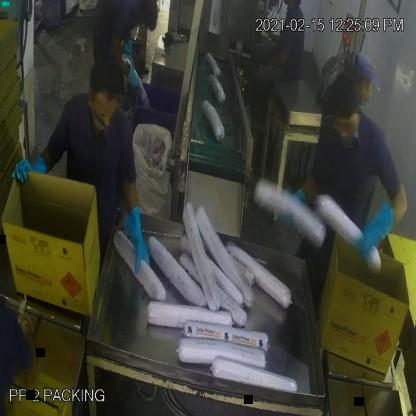glove: (346, 194, 400, 273), (114, 186, 151, 289), (9, 142, 52, 191)
